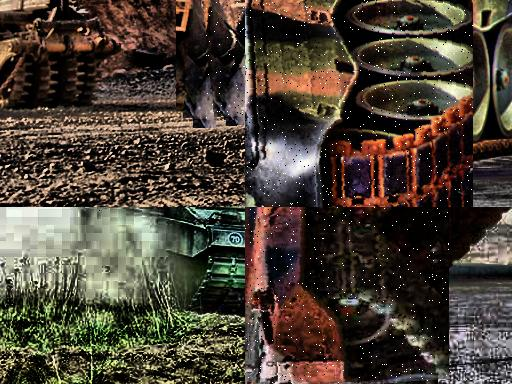tanks: (246, 1, 474, 208), (246, 208, 450, 384), (133, 208, 246, 312), (99, 208, 101, 220)
